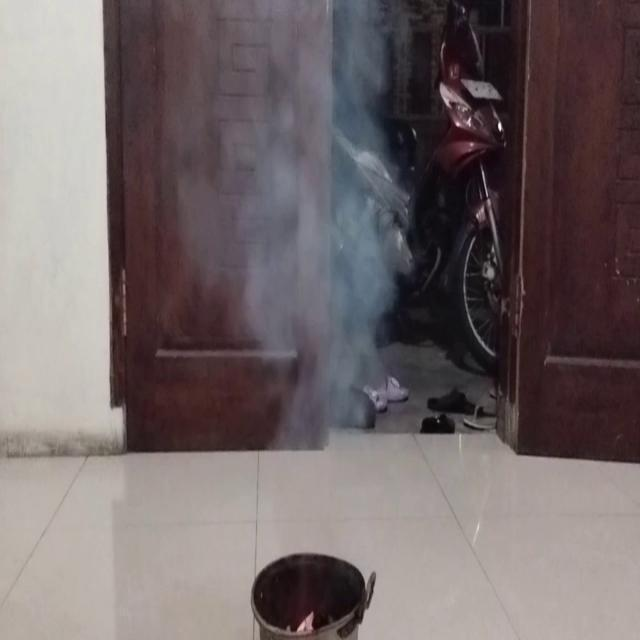fire: (248, 0, 404, 386)
